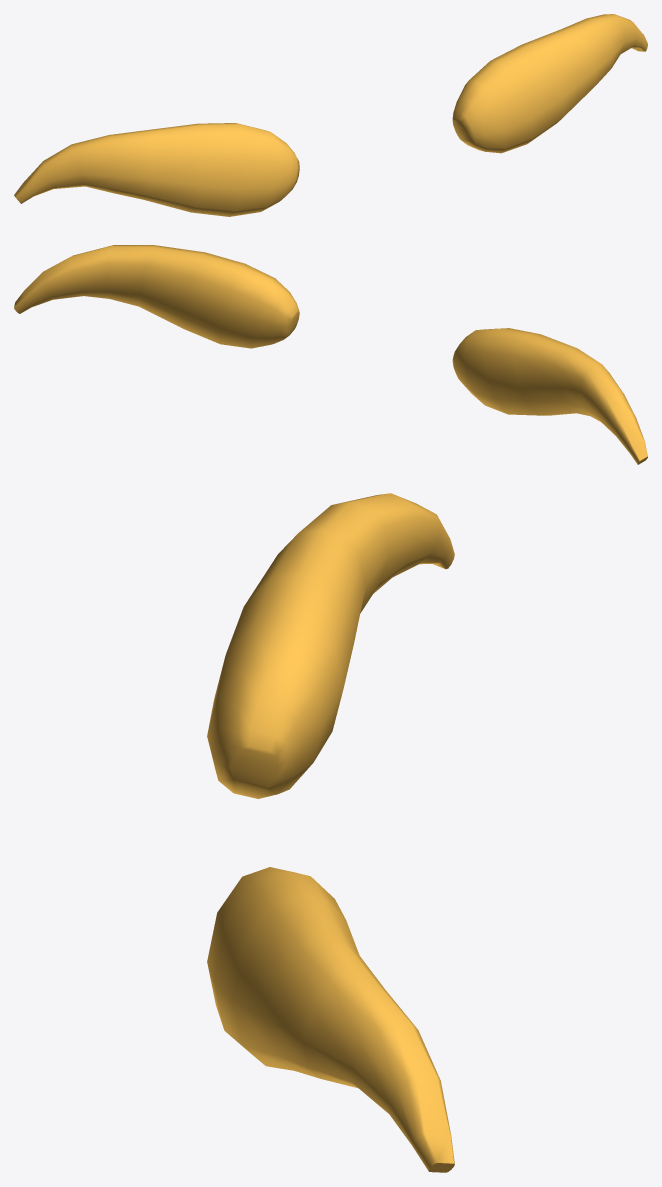
Rendered from Eyebrows_24_05.fbx.
3 views of the same model, one above another, from view 1: azimuth 30°, elevation 25°; view 2: azimuth 150°, elevation 25°; view 3: azimuth 270°, elevation 25° (orthographic). The views are drawn at different scales.
Visible parts, largest first — view 1: Eyebrows_24_05; view 2: Eyebrows_24_05; view 3: Eyebrows_24_05.
Part boxes in pixels (<box>): Eyebrows_24_05: <box>14,14,647,216</box>; Eyebrows_24_05: <box>14,245,647,464</box>; Eyebrows_24_05: <box>207,493,454,1172</box>.
Size of the model in its own units: 19.24 by 2.6 by 3.26.
